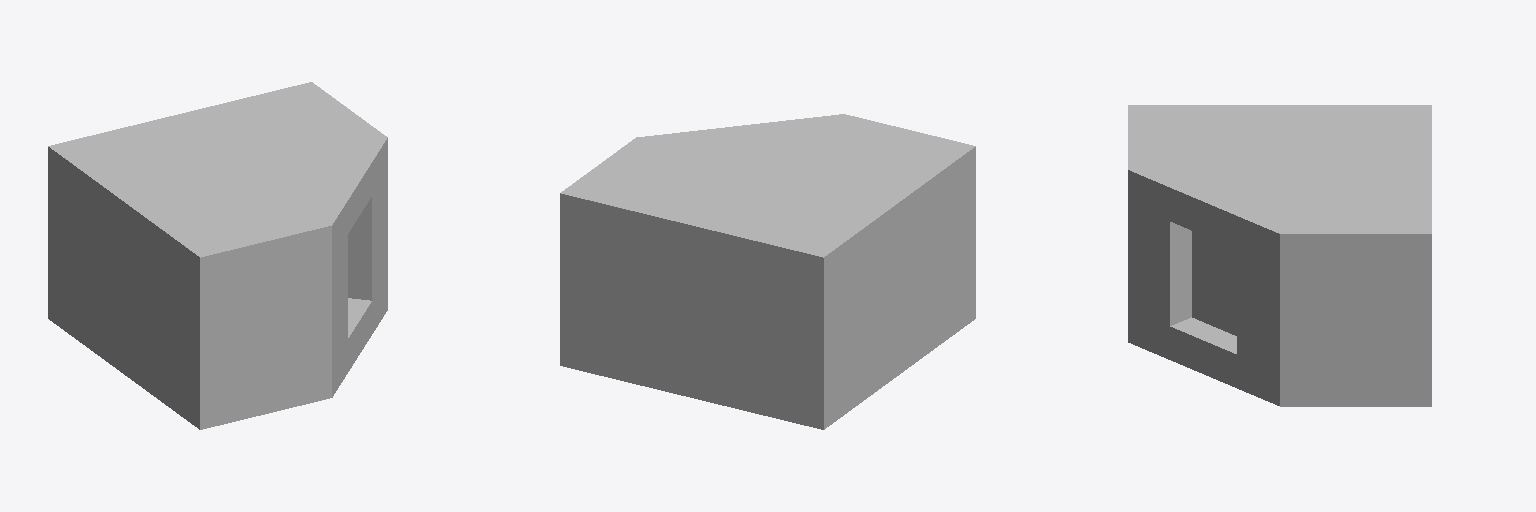
File: building-corner-window.obj
3 renders of one model, left to right at view 1: azimuth 30°, elevation 25°; view 2: azimuth 150°, elevation 25°; view 3: azimuth 270°, elevation 25°, orthographic.
Visible parts, largest first — view 1: building-corner-window; view 2: building-corner-window; view 3: building-corner-window.
Boxes of the visible parts, <box> form: building-corner-window: <box>48,82,387,429</box>; building-corner-window: <box>560,114,975,429</box>; building-corner-window: <box>1128,105,1431,406</box>.
Size of the model in its own units: 1 by 0.625 by 1.